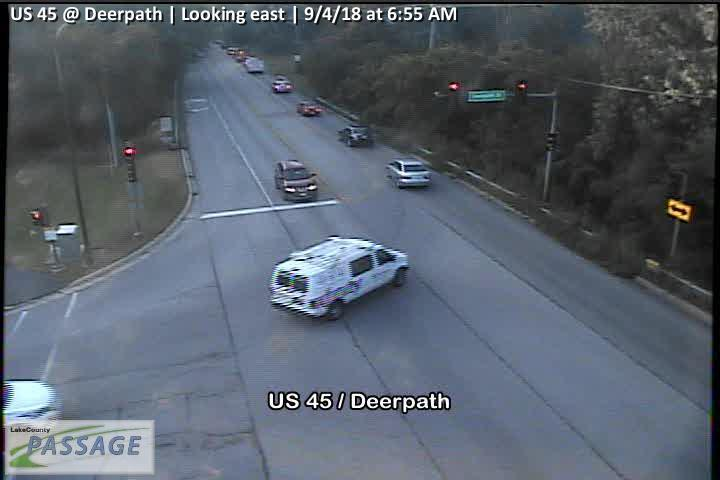SUV: (271, 157, 318, 202), (244, 55, 266, 73)
Sedan: (383, 157, 434, 190), (336, 125, 374, 148), (295, 98, 322, 117), (272, 78, 294, 92)
Truck: (267, 234, 411, 322)
